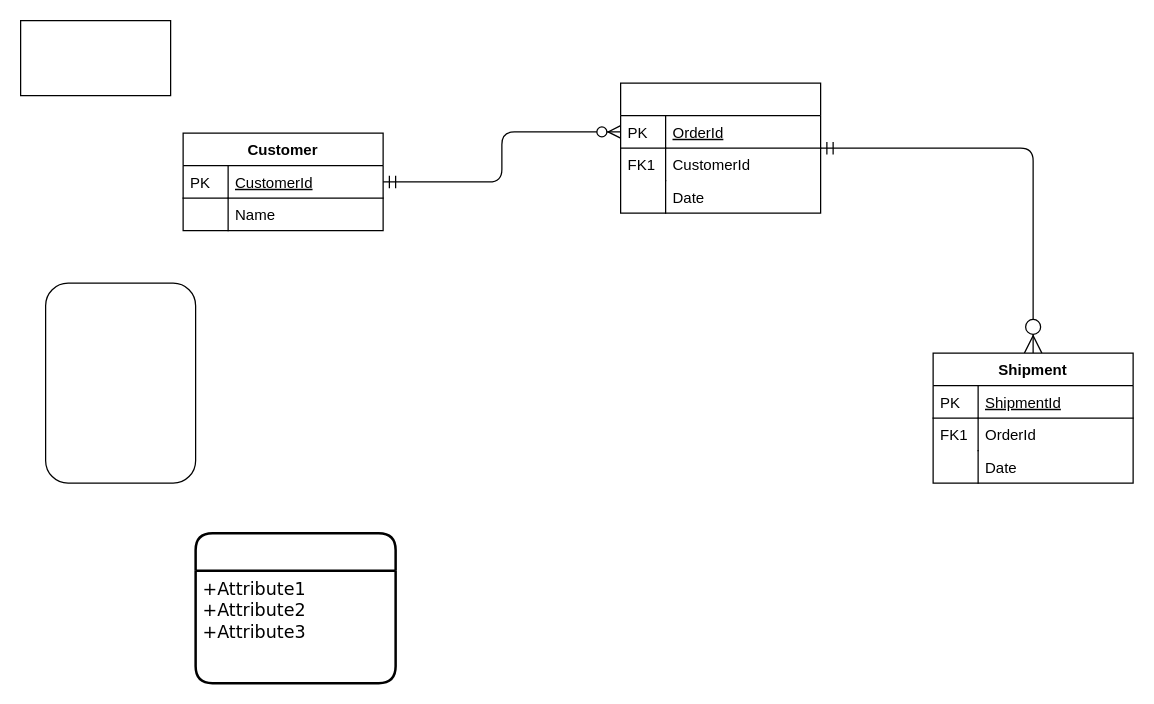
The diagram is 1154 pixels wide and 704 high, and some of its shapes have lost their labels. Each missing label, with the box of its shape:
Entity: (194, 531, 396, 684)
Orden: (619, 82, 821, 213)
